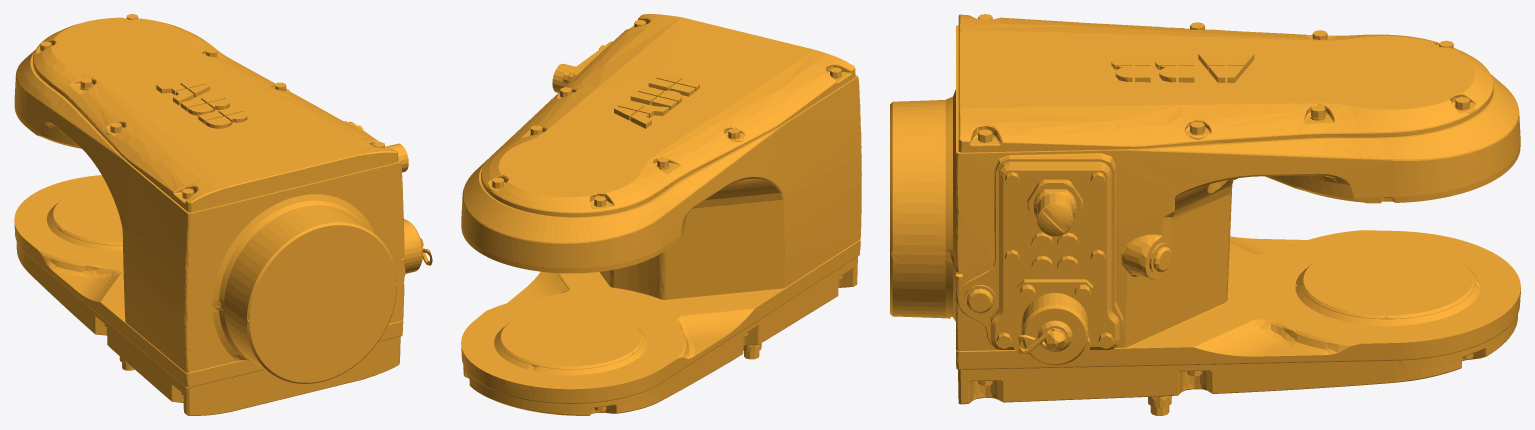
File: ABBIRB1200Link4.dae
3 views of the same model, side by side, from view 1: azimuth 30°, elevation 25°; view 2: azimuth 150°, elevation 25°; view 3: azimuth 270°, elevation 25° (orthographic). The views are drawn at different scales.
Parts seen in each view (by area): view 1: ABBIRB1200Link4; view 2: ABBIRB1200Link4; view 3: ABBIRB1200Link4.
Part boxes in pixels (left/top/right/bottom): ABBIRB1200Link4: left=14, top=14, right=432, bottom=415; ABBIRB1200Link4: left=461, top=14, right=861, bottom=415; ABBIRB1200Link4: left=890, top=14, right=1520, bottom=415.
Bounding box in the file's own units: 0.1474 × 0.235 × 0.1215.
